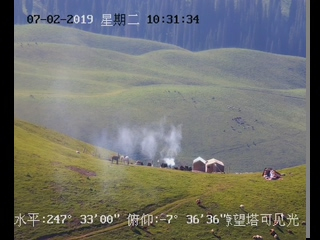smoke: (103, 119, 183, 165)
